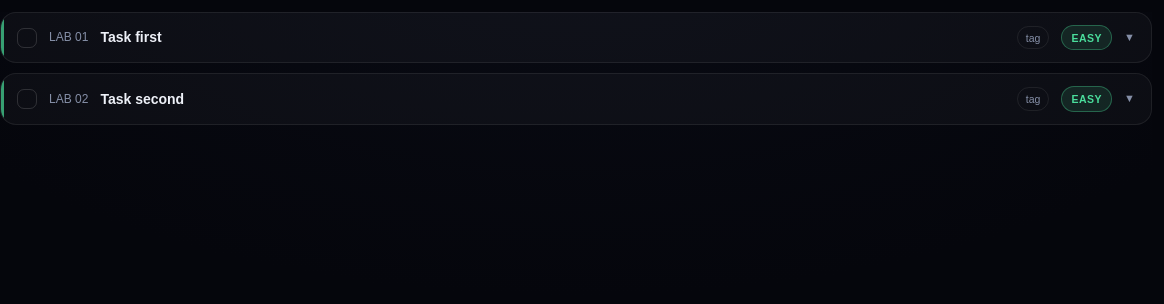
the task list › keeps the checkbox out of the expand control
Click the 1st checkbox labelled "✓" at [27, 38], box 17,28 -> 37,48
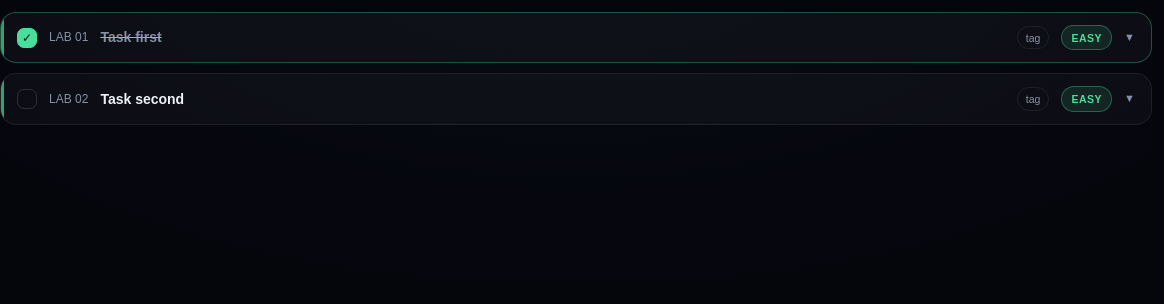
expect the text "Do first" is not shown: met
expect the 1st checkbox labelled "✓" is checked: met, box 17,28 -> 37,48
Click the button "LAB 01 Task first tag EASY ▼" at [131, 37], box 49,13 -> 1151,62
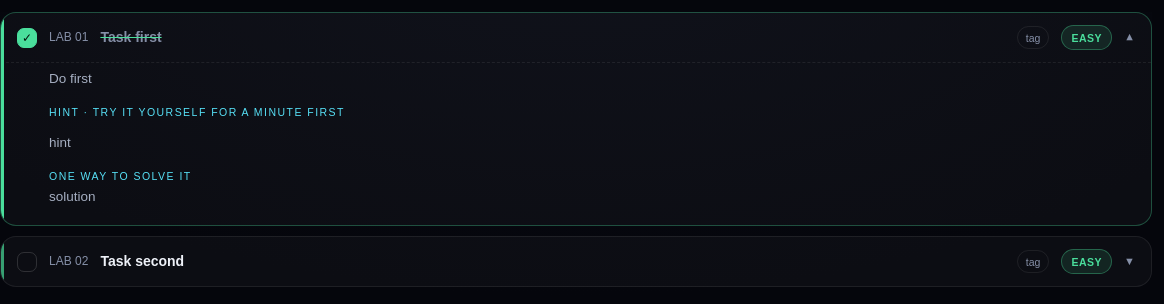
expect the button "LAB 01 Task first tag EASY ▼" is expanded: met, box 49,13 -> 1151,62
